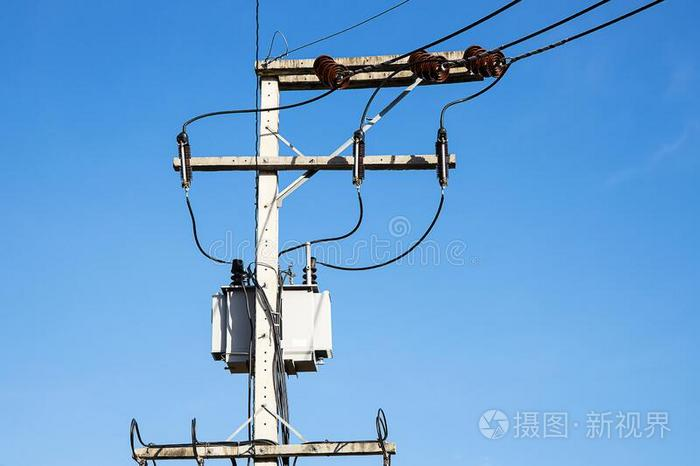insulator: (462, 44, 505, 77), (407, 49, 447, 82), (312, 54, 347, 91)
